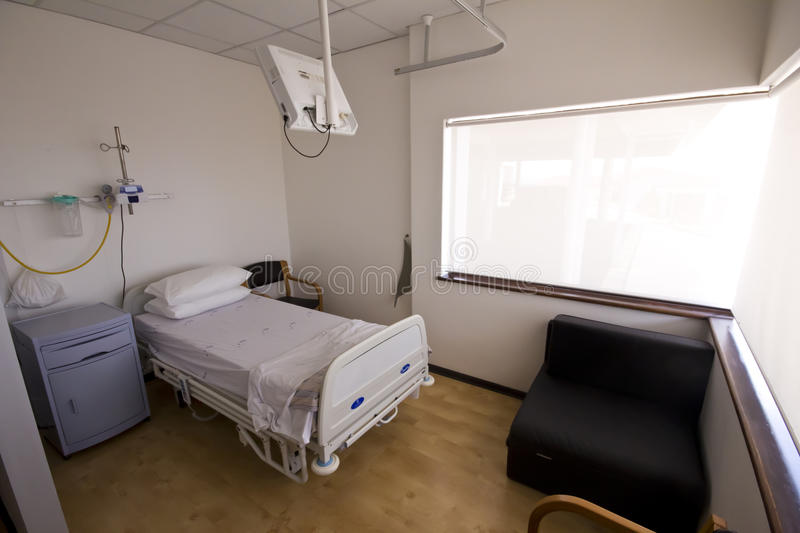hospital bed: (134, 262, 458, 426)
